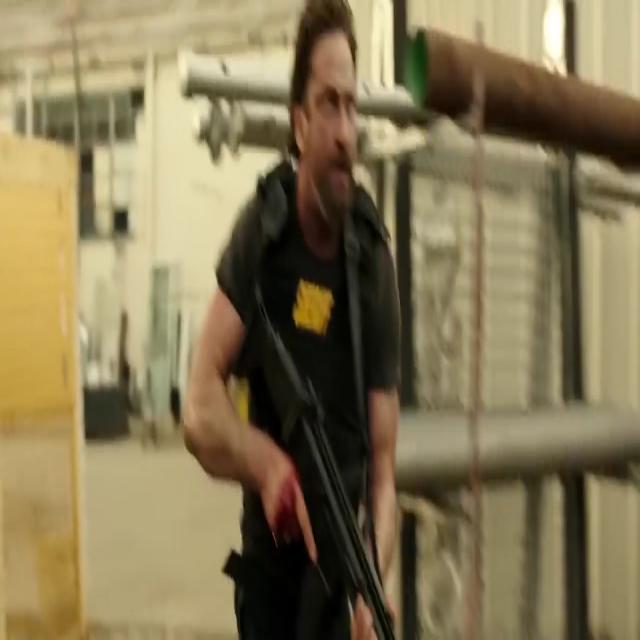Weapon: (244, 270, 396, 640)
